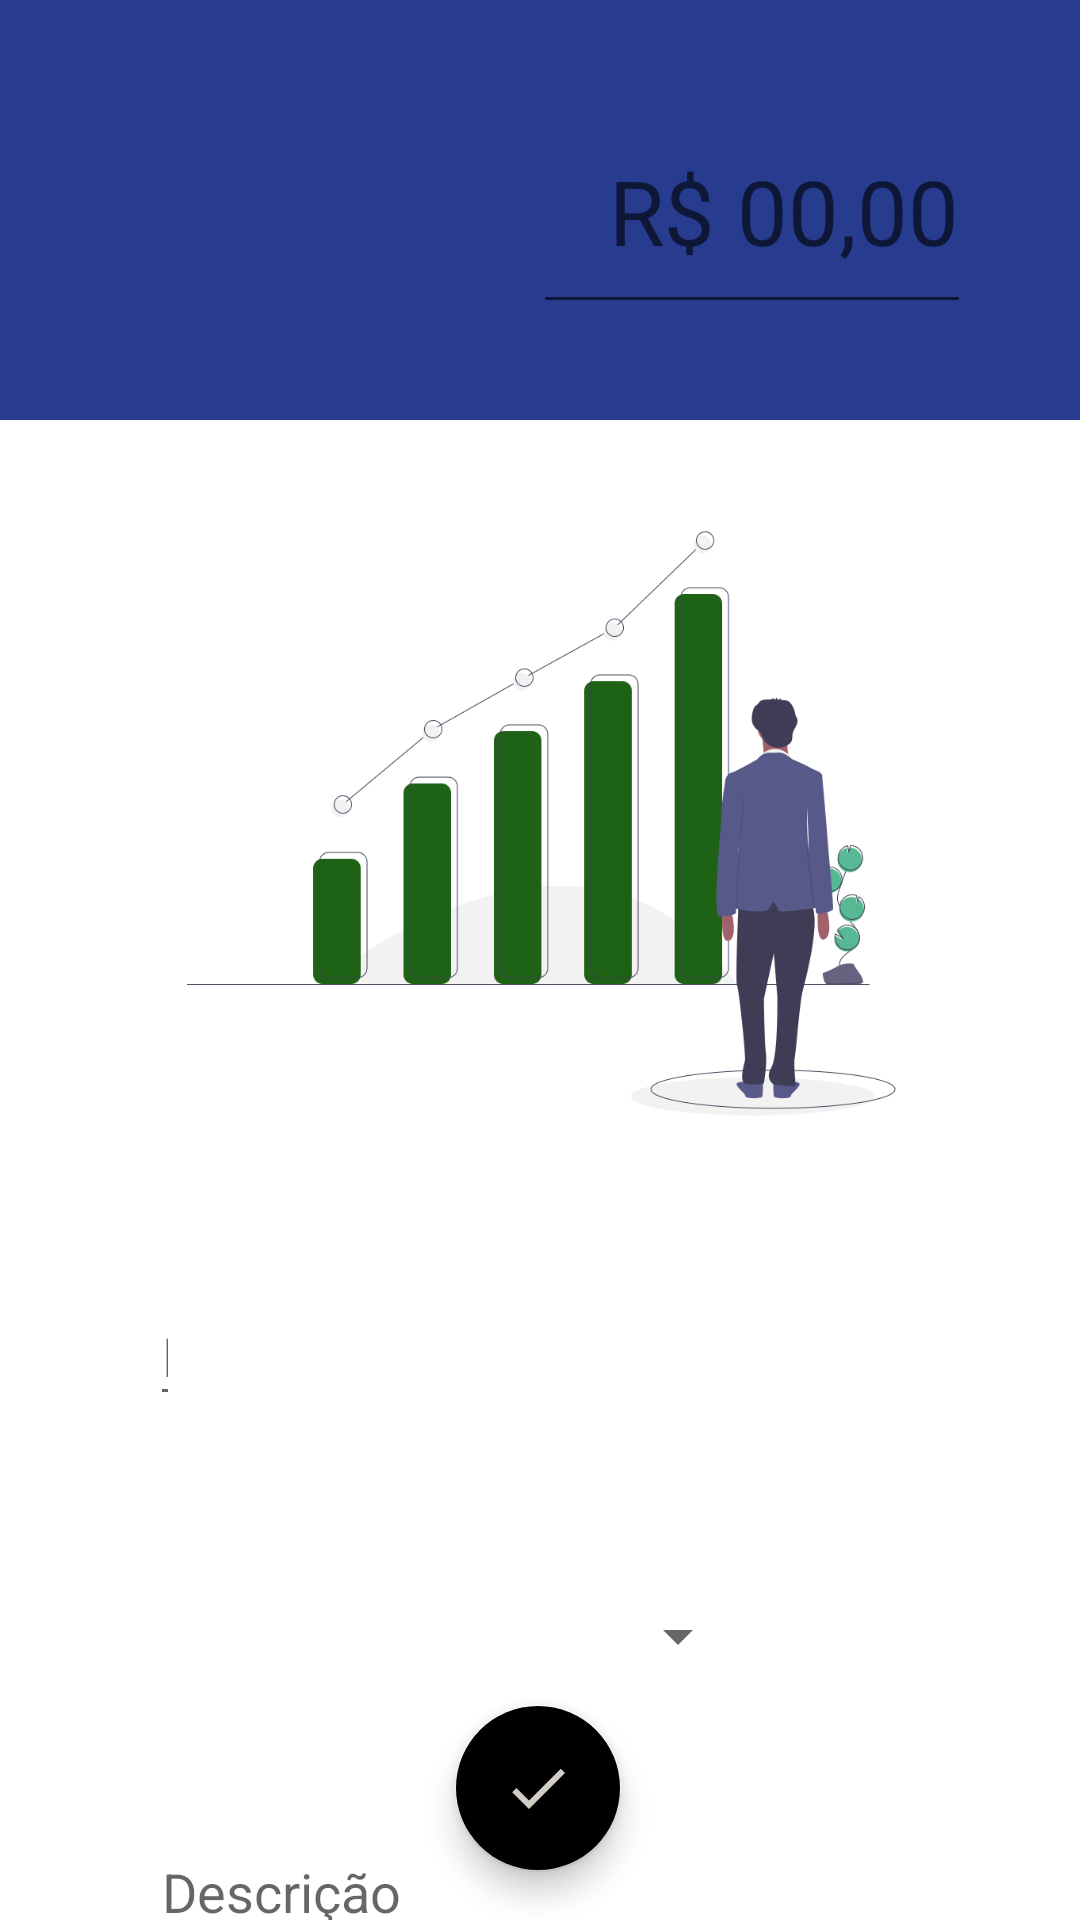

Named icons in this screenshot (1080 x 1920) and their bounding boxes, (x1, y1, x2, y2):
done: (454, 1706, 622, 1872)
